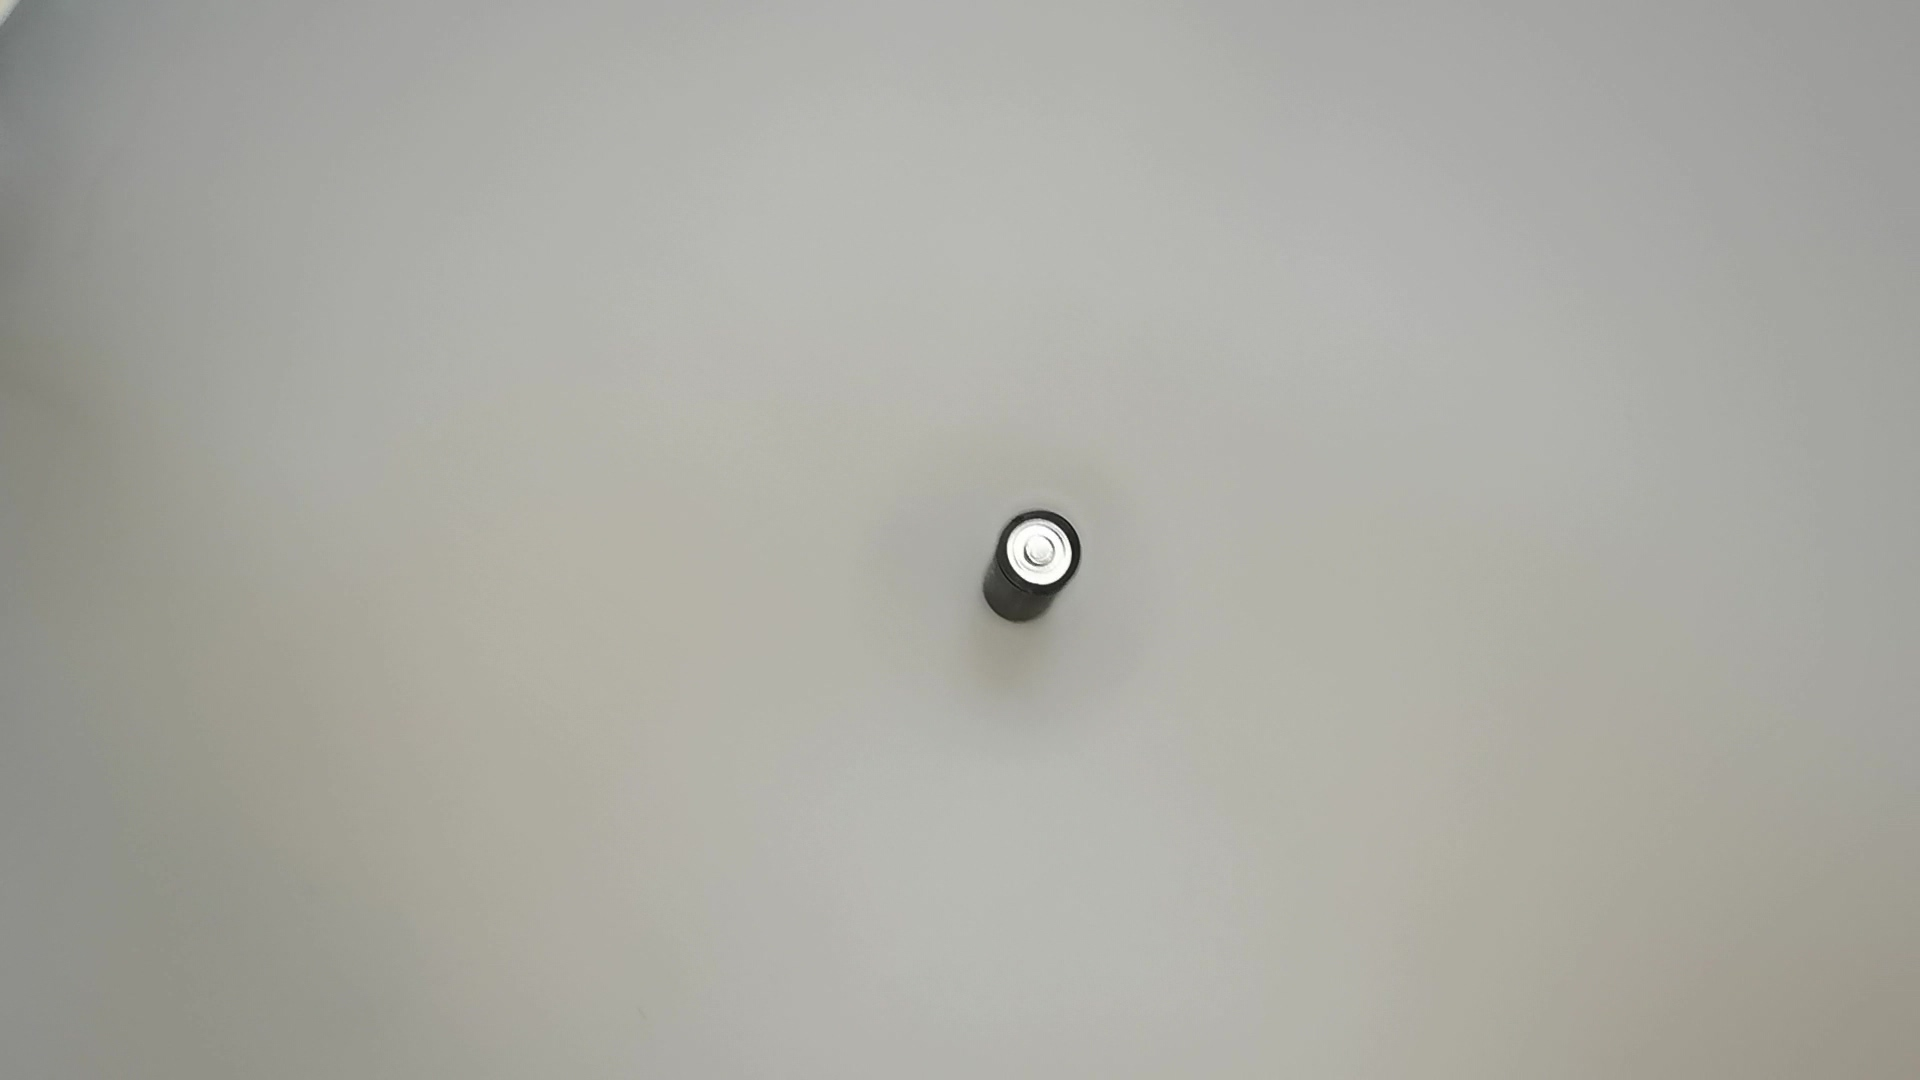battery: (971, 506, 1088, 638)
